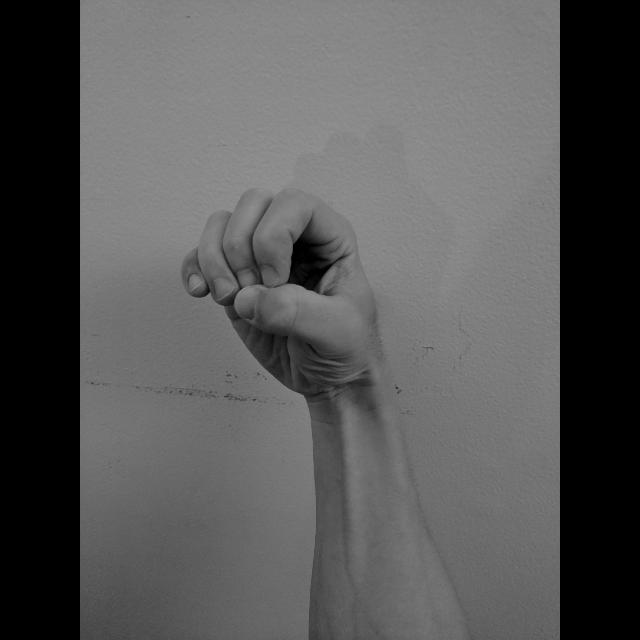O: (178, 184, 382, 400)
